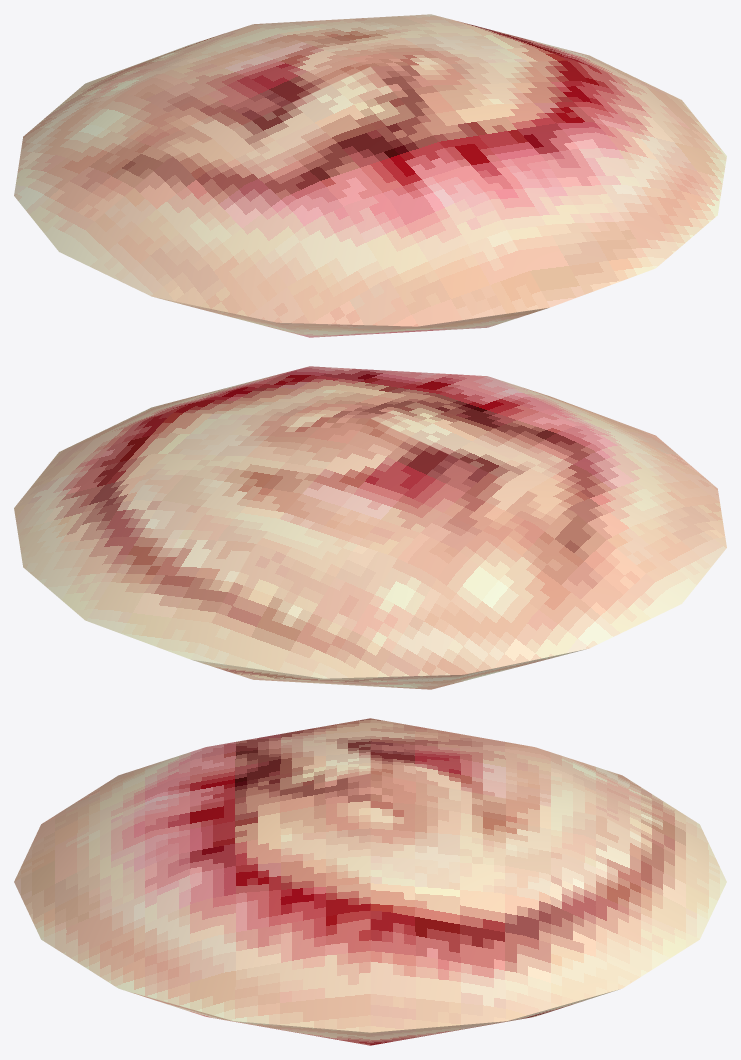
File: Seed01.glb
The picture shows the model from 3 angles, top to bottom: view 1: azimuth 30°, elevation 25°; view 2: azimuth 150°, elevation 25°; view 3: azimuth 270°, elevation 25°; orthographic projection.
Parts seen in each view (by area): view 1: Seed01-col; view 2: Seed01-col; view 3: Seed01-col.
Boxes of the visible parts, x1,y1,x2,y2 form: Seed01-col: (14,14,726,337); Seed01-col: (14,366,726,689); Seed01-col: (14,718,726,1045).
Size of the model in its own units: 0.3812 by 0.1279 by 0.3812.
1 material, 1 textured.
